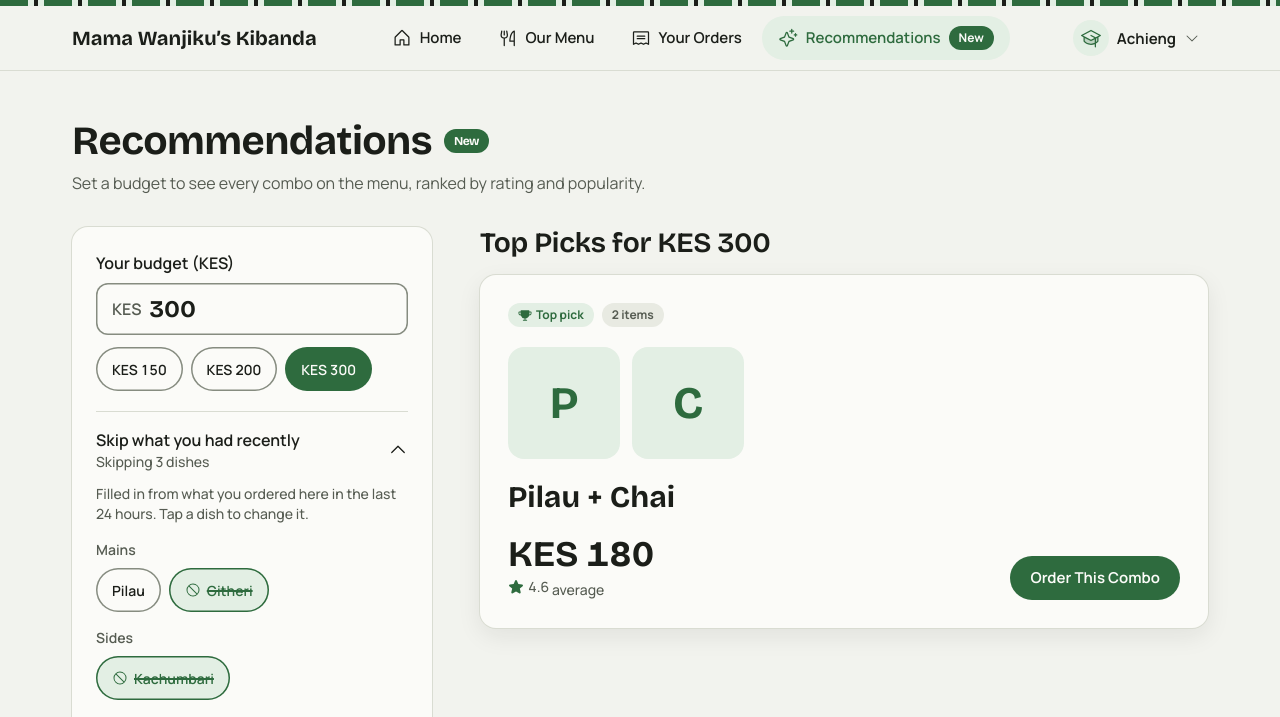
Test: Recommendations › says what to do if the order fails, and re-enables the button
Click the button "Order This Combo": (1095, 578) [1010,556,1180,600]
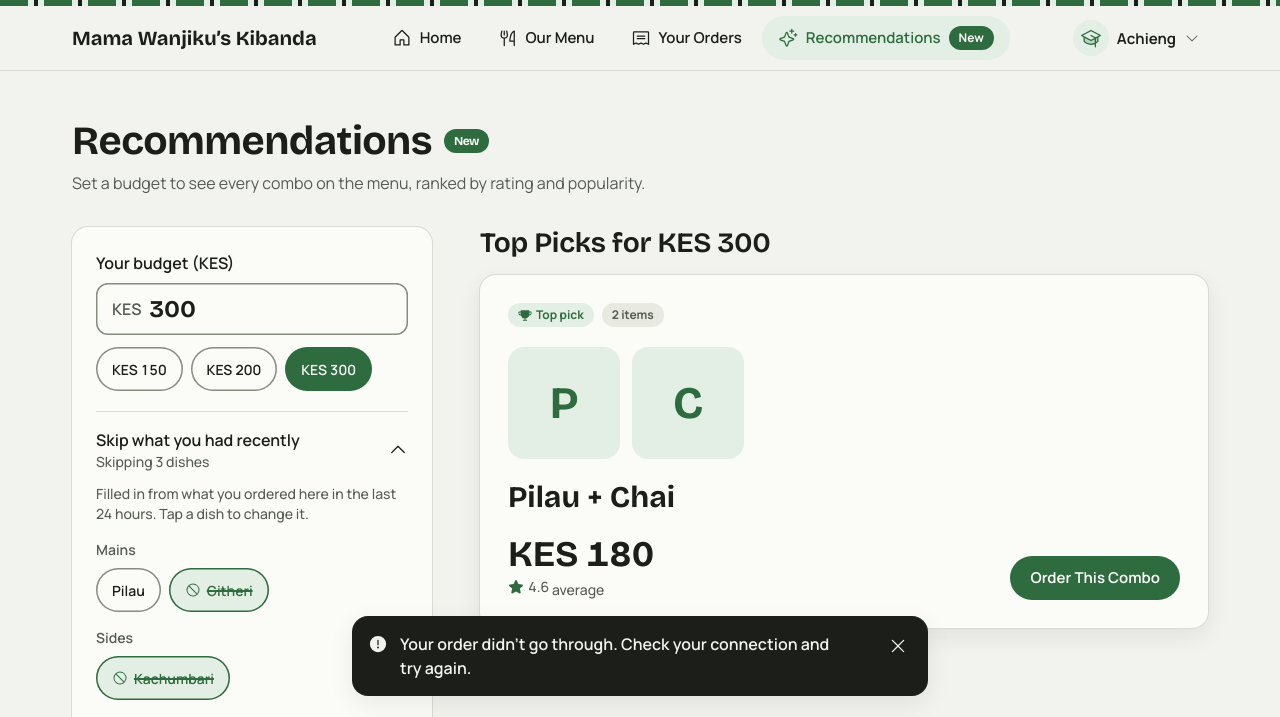
expect the text "go through. Check your connection and try again" is shown: met, box [400,633,829,679]
